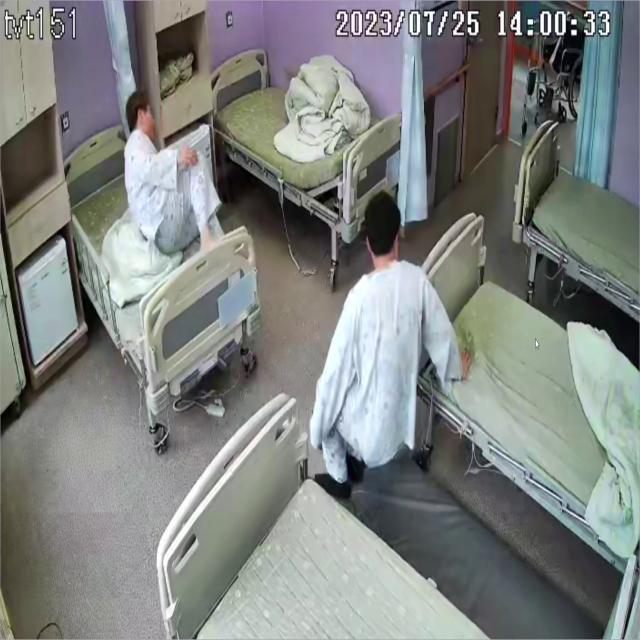bed: (404, 207, 640, 564), (170, 390, 486, 640), (64, 121, 270, 372), (213, 48, 400, 204), (521, 120, 640, 310)
danger: (308, 192, 470, 506), (125, 90, 218, 253)
patient: (308, 192, 469, 496), (125, 90, 219, 256)
